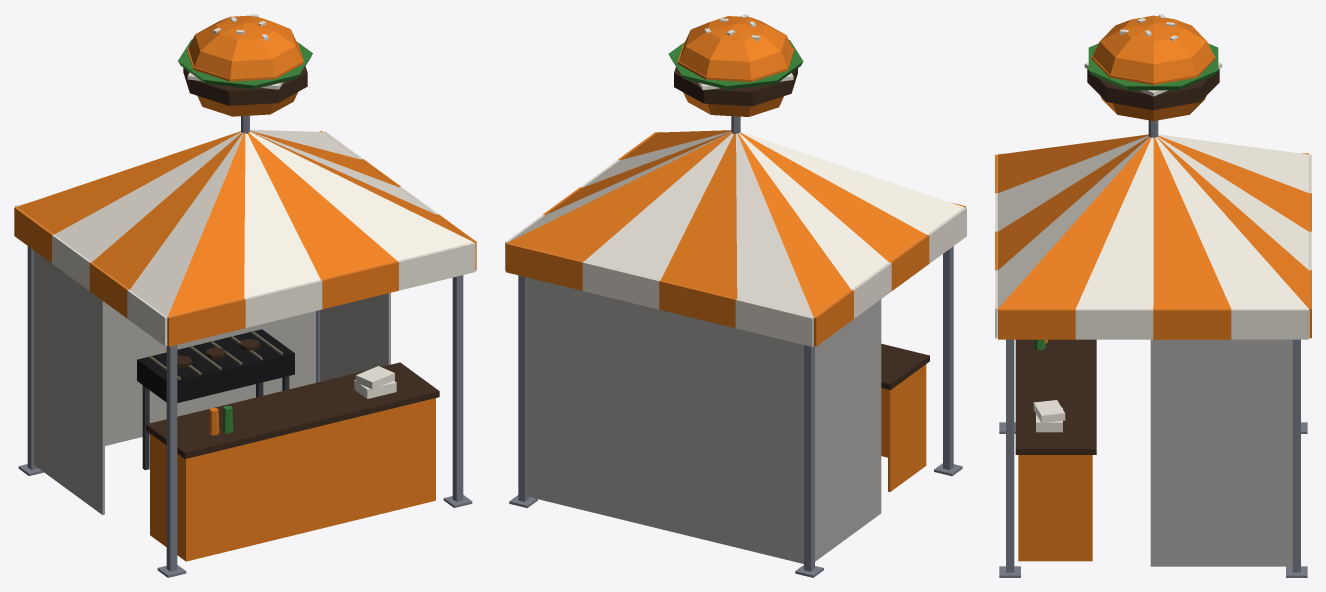
The model's file is FoodStall01.fbx.
The picture shows the model from 3 angles, left to right: view 1: azimuth 30°, elevation 25°; view 2: azimuth 150°, elevation 25°; view 3: azimuth 270°, elevation 25°; orthographic projection. The views are drawn at different scales.
Parts seen in each view (by area): view 1: FoodStall01_Festival_ED7E1D, FoodStall01_Festival_F2EDE2, FoodStall01_Festival_B6B3AF, FoodStall01_Festival_3D2A1C, FoodStall01_Festival_7D828C, FoodStall01_Festival_151619, FoodStall01_Festival_3A883A, FoodStall01_Festival_3A3C40, FoodStall01_Festival_70685C; view 2: FoodStall01_Festival_B6B3AF, FoodStall01_Festival_ED7E1D, FoodStall01_Festival_F2EDE2, FoodStall01_Festival_7D828C, FoodStall01_Festival_3D2A1C, FoodStall01_Festival_3A883A; view 3: FoodStall01_Festival_ED7E1D, FoodStall01_Festival_F2EDE2, FoodStall01_Festival_B6B3AF, FoodStall01_Festival_3D2A1C, FoodStall01_Festival_7D828C, FoodStall01_Festival_3A883A.
Boxes of the visible parts, x1,y1,x2,y2 form: FoodStall01_Festival_ED7E1D: (14,15,476,561); FoodStall01_Festival_F2EDE2: (15,14,475,398); FoodStall01_Festival_B6B3AF: (18,208,471,514); FoodStall01_Festival_3D2A1C: (146,66,439,458); FoodStall01_Festival_7D828C: (18,115,472,577); FoodStall01_Festival_151619: (137,329,294,402); FoodStall01_Festival_3A883A: (178,39,312,433); FoodStall01_Festival_3A3C40: (142,376,289,470); FoodStall01_Festival_70685C: (148,331,283,379); FoodStall01_Festival_B6B3AF: (515,208,962,563); FoodStall01_Festival_ED7E1D: (506,16,965,491); FoodStall01_Festival_F2EDE2: (505,14,966,346); FoodStall01_Festival_7D828C: (509,116,962,577); FoodStall01_Festival_3D2A1C: (674,67,929,389); FoodStall01_Festival_3A883A: (668,40,803,89); FoodStall01_Festival_ED7E1D: (995,15,1311,561); FoodStall01_Festival_F2EDE2: (995,14,1311,432); FoodStall01_Festival_B6B3AF: (997,155,1309,566); FoodStall01_Festival_3D2A1C: (1015,69,1219,454); FoodStall01_Festival_7D828C: (999,120,1307,577); FoodStall01_Festival_3A883A: (1034,43,1218,350).
Bounding box in the file's own units: 2.74 × 3.9 × 2.34.
